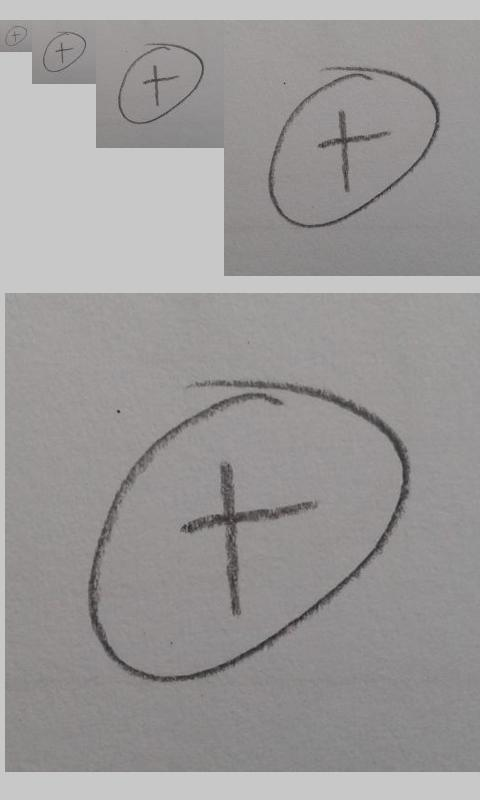button: (87, 380, 412, 685), (267, 63, 441, 230), (117, 43, 205, 125), (42, 31, 87, 73), (4, 25, 28, 47)
